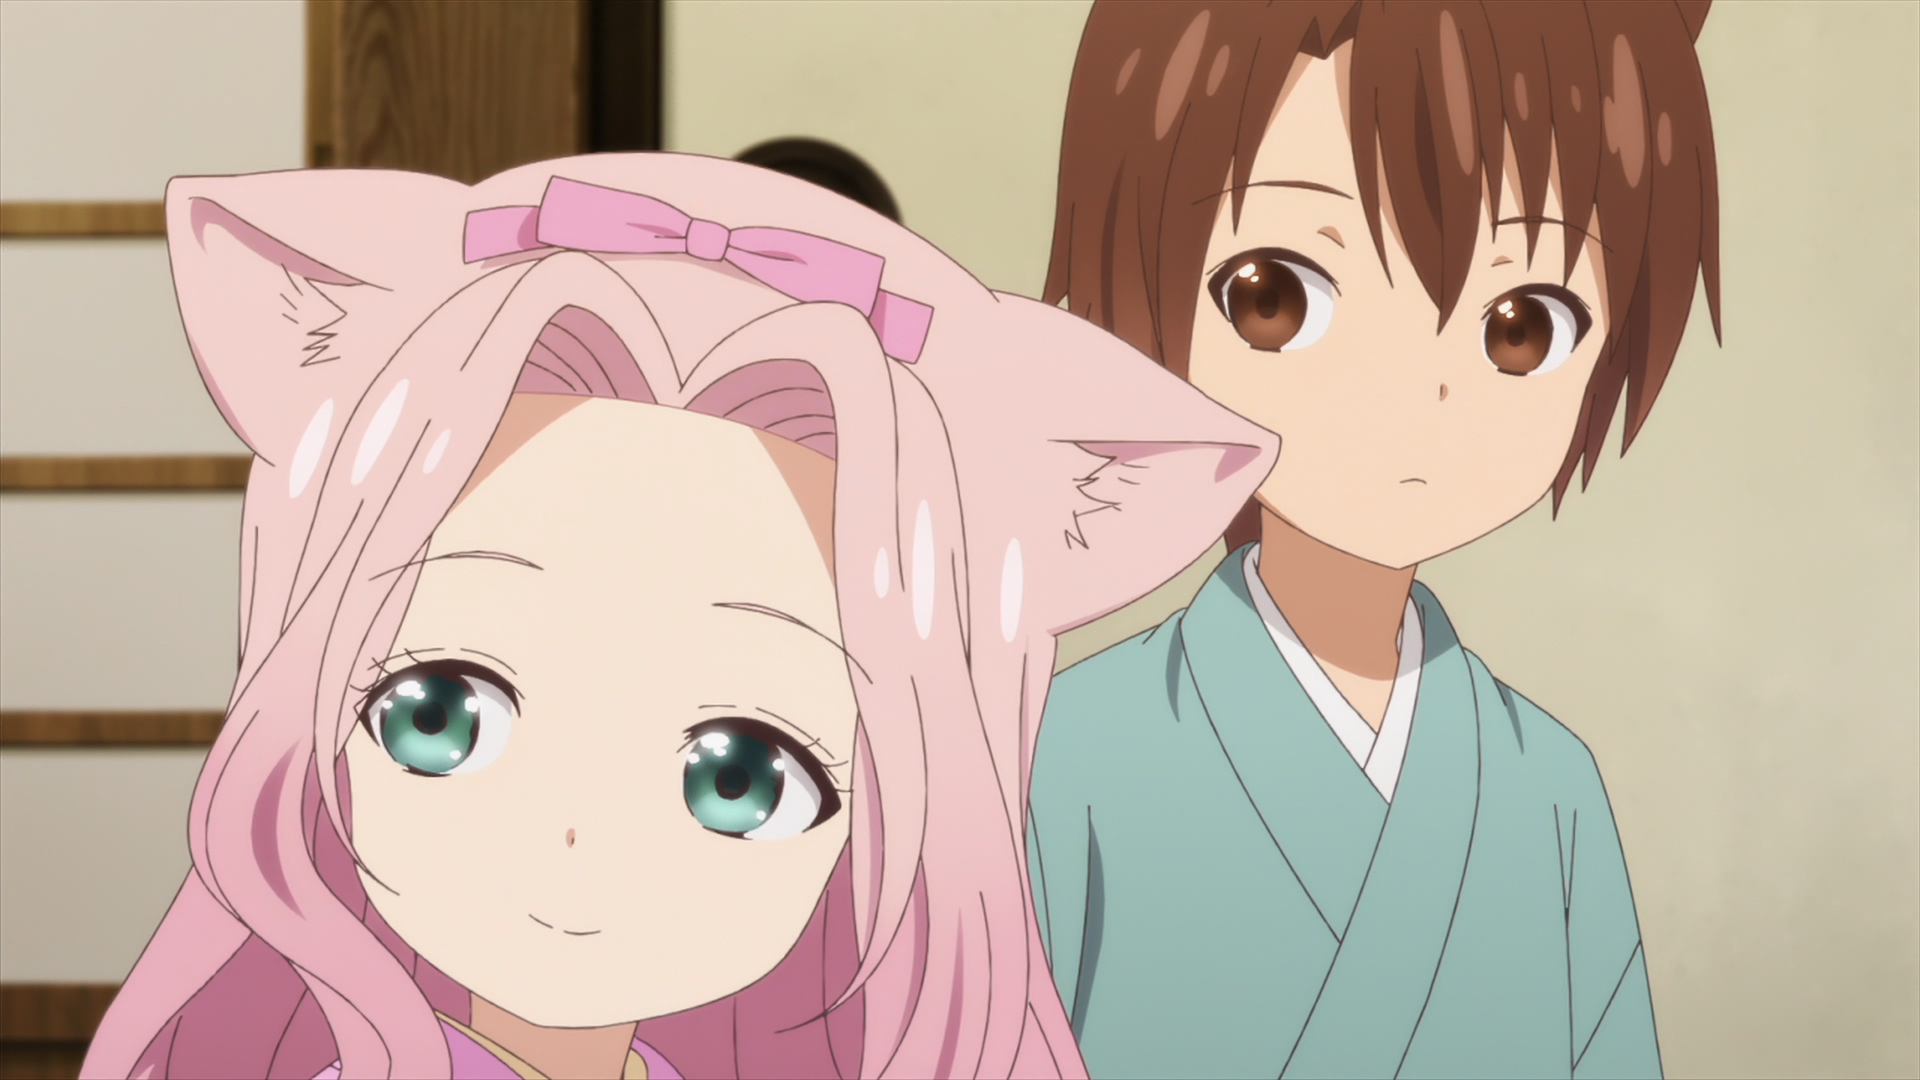枣: (1025, 1, 1725, 1080)
莲: (86, 152, 1280, 1080)
